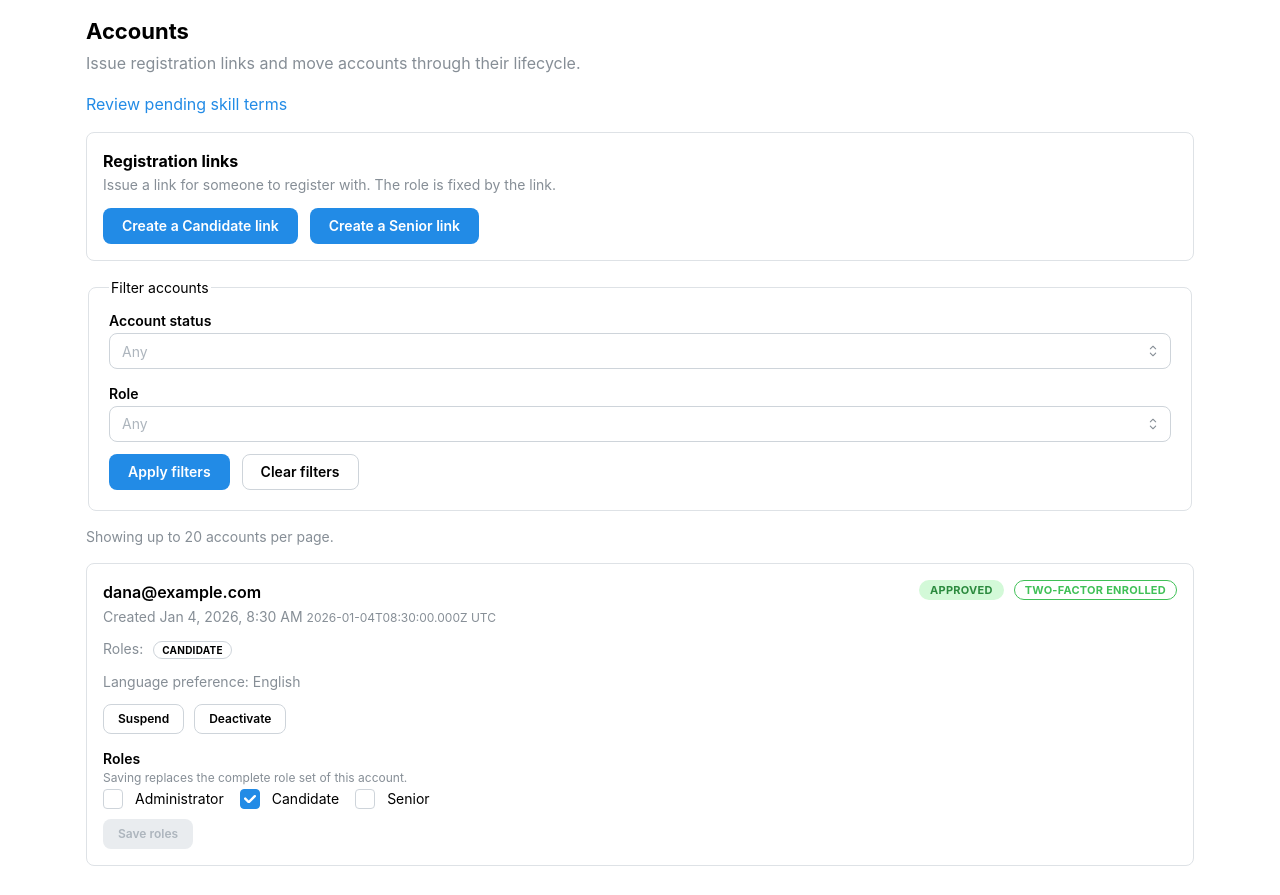
an issued Registration_Link (Req 16 AC5) › states that no token was returned rather than rendering an empty value
The width and height of the screenshot is (1280, 895).
Step 1. Click the button with test id "registration-link-create-SENIOR" → (394, 226), box [310,208,479,244]
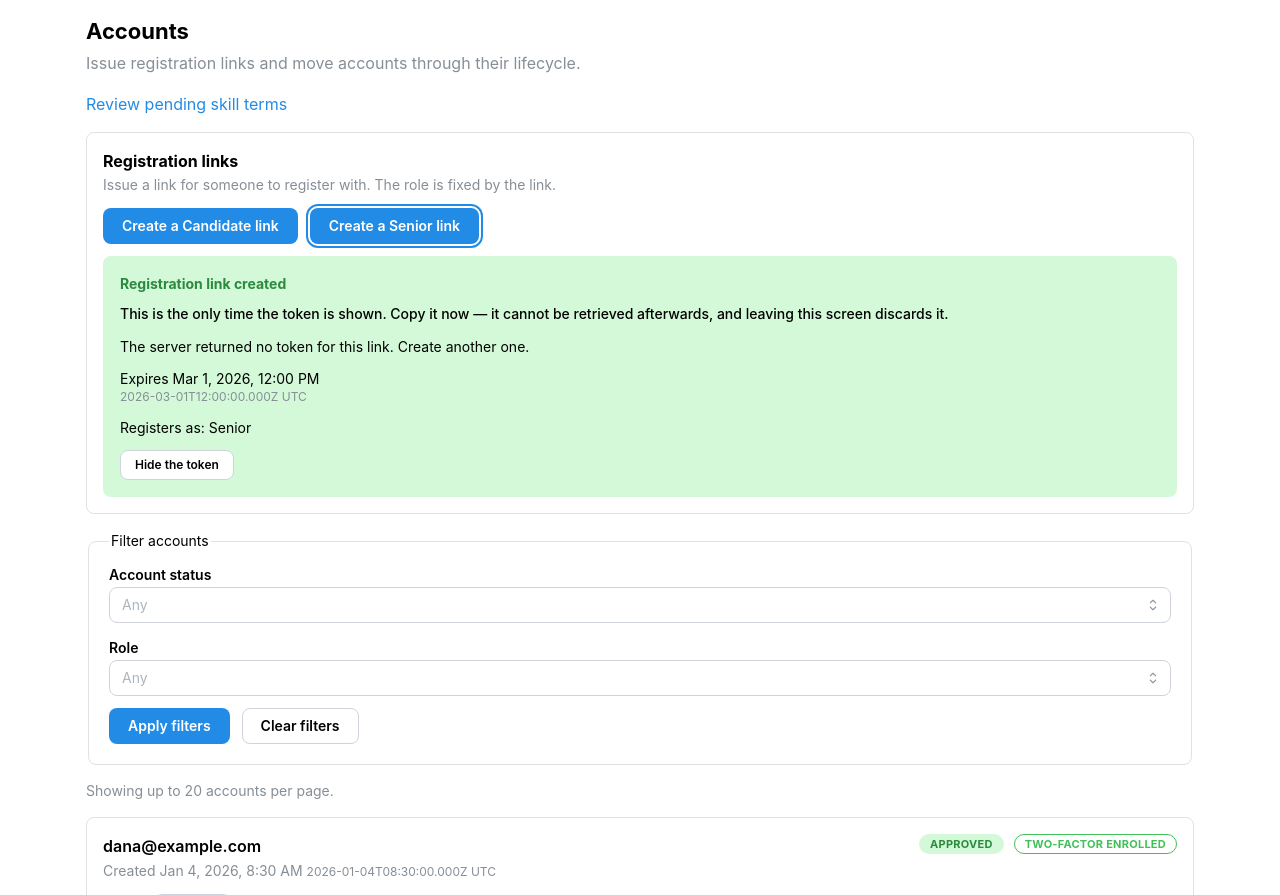
Now the text with test id "registration-link-no-token" is shown, box [120,338,529,355]
Now the text "Expires Mar 1, 2026, 12:00 PM" is shown, box [120,370,320,387]
